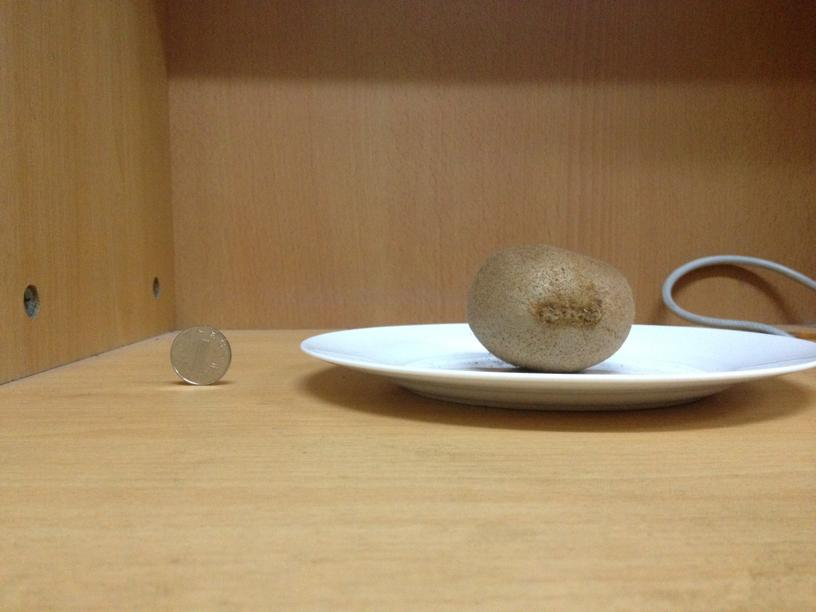coin: (166, 323, 232, 386)
qiwi: (464, 243, 635, 370)
